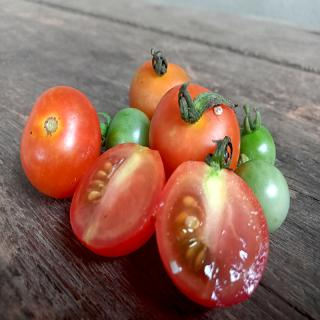Tomat: (70, 142, 167, 258), (20, 86, 103, 200)
